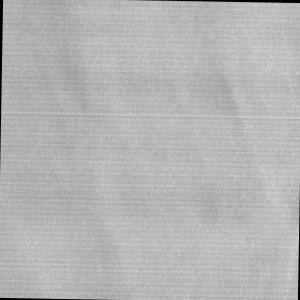Wrinkle: (211, 63, 300, 251), (18, 1, 113, 131), (47, 158, 133, 300)
